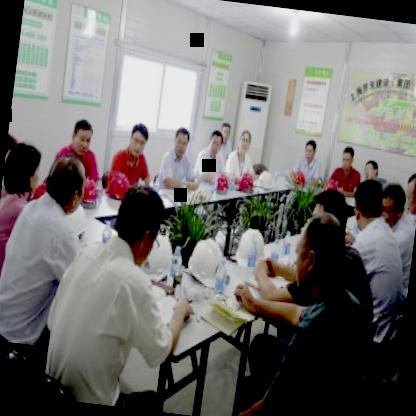head: (286, 203, 350, 293), (112, 182, 169, 266), (1, 137, 46, 204), (42, 152, 88, 215), (348, 178, 385, 236), (376, 180, 406, 226), (124, 116, 152, 162), (67, 115, 98, 156), (167, 122, 193, 162), (2, 125, 20, 177), (332, 140, 358, 175), (400, 165, 416, 215), (235, 126, 254, 160), (298, 134, 318, 164), (206, 126, 224, 157), (361, 155, 381, 182), (218, 118, 233, 144)
